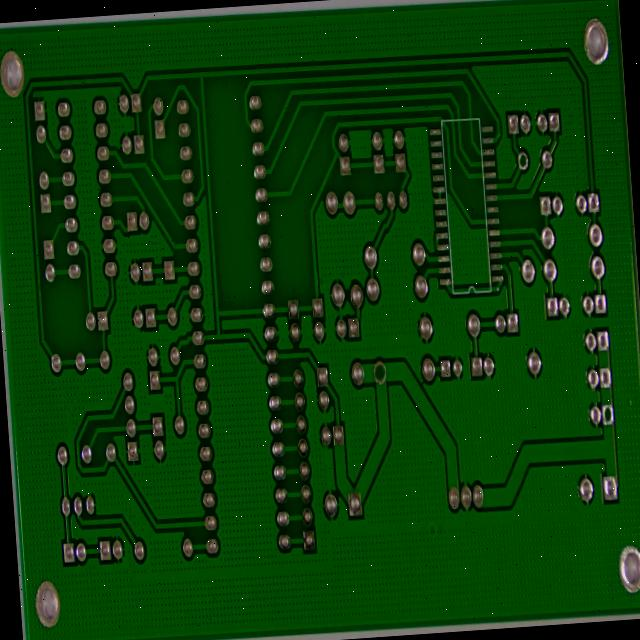missing_hole: (346, 279, 364, 317), (497, 14, 513, 47), (592, 339, 608, 371)
